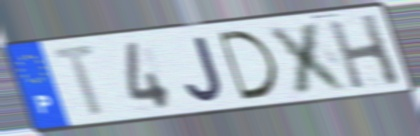4: (124, 38, 174, 113)
D: (213, 27, 281, 103)
H: (324, 11, 405, 91)
J: (182, 34, 227, 104)
T: (48, 41, 108, 121)
X: (264, 18, 356, 97)
